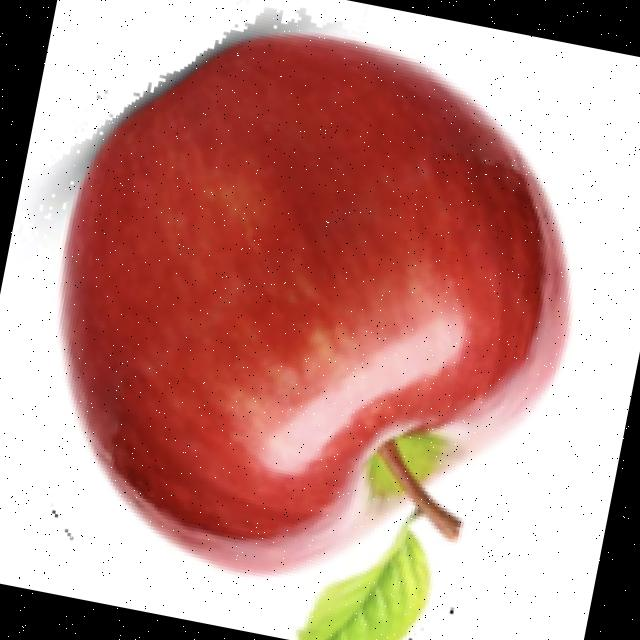apple: (18, 6, 576, 640)
